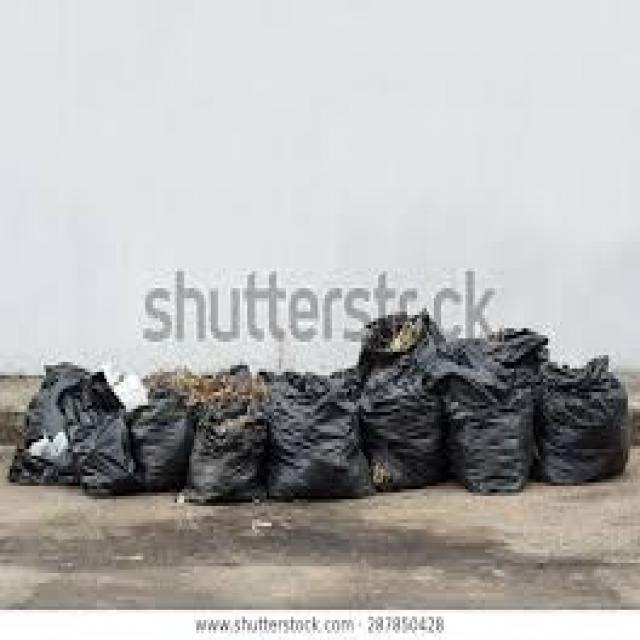garbage: (0, 282, 633, 509)
